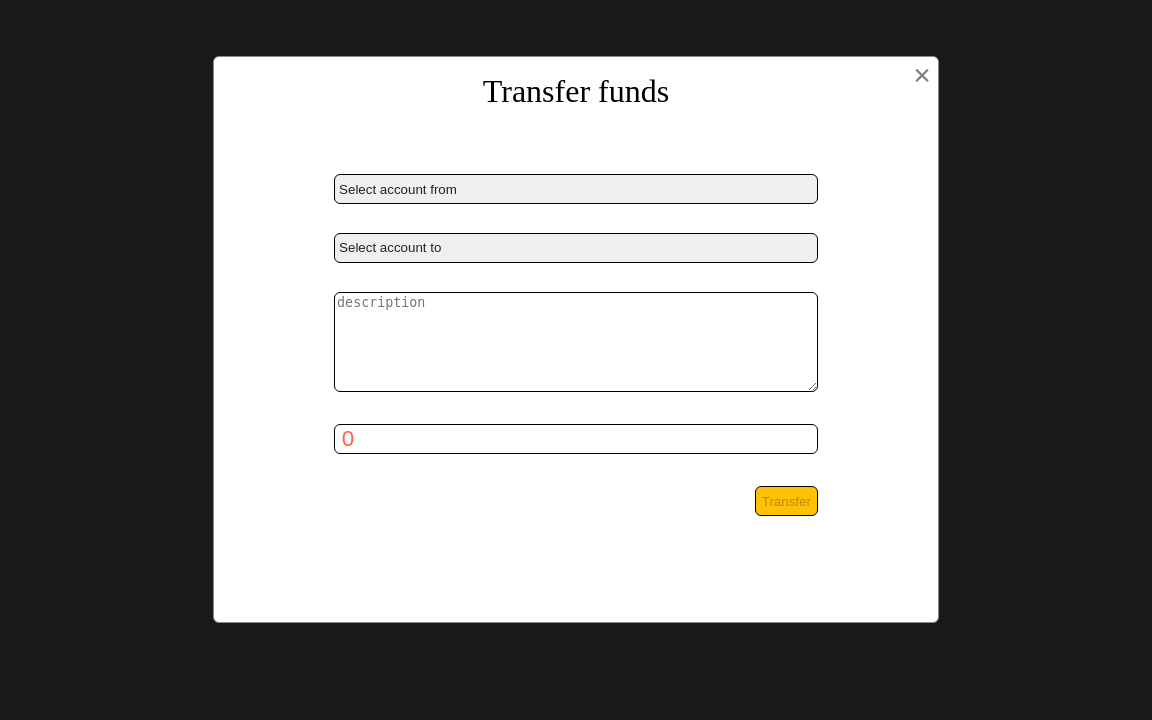
Test: Transfer › page elements › transfer form › has a numeric input button
This screenshot has width=1152, height=720.
Type "1abs2" into the field with test id "transfer-input". click: (576, 439)
box: 334,424 -> 818,454
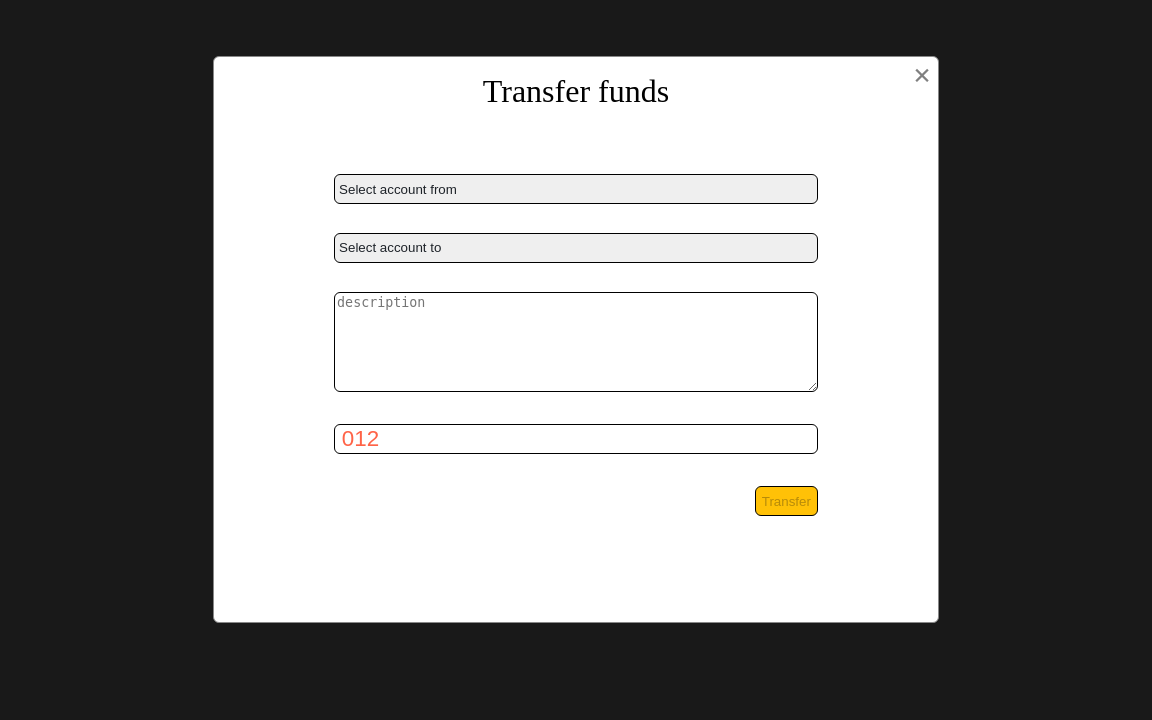
Now the field with test id "transfer-input" holds "012", box 334,424 -> 818,454
